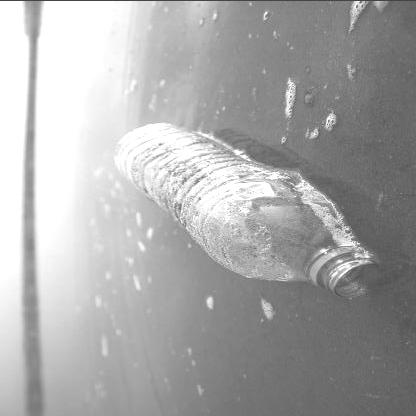bottle: (92, 113, 395, 306)
